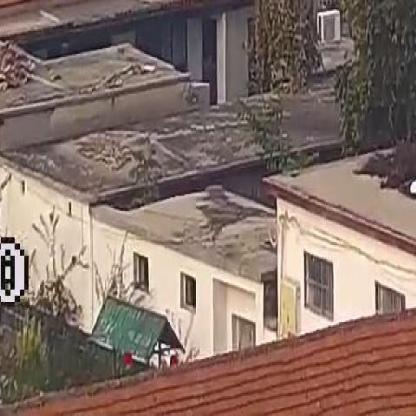other: (121, 337, 215, 403)
